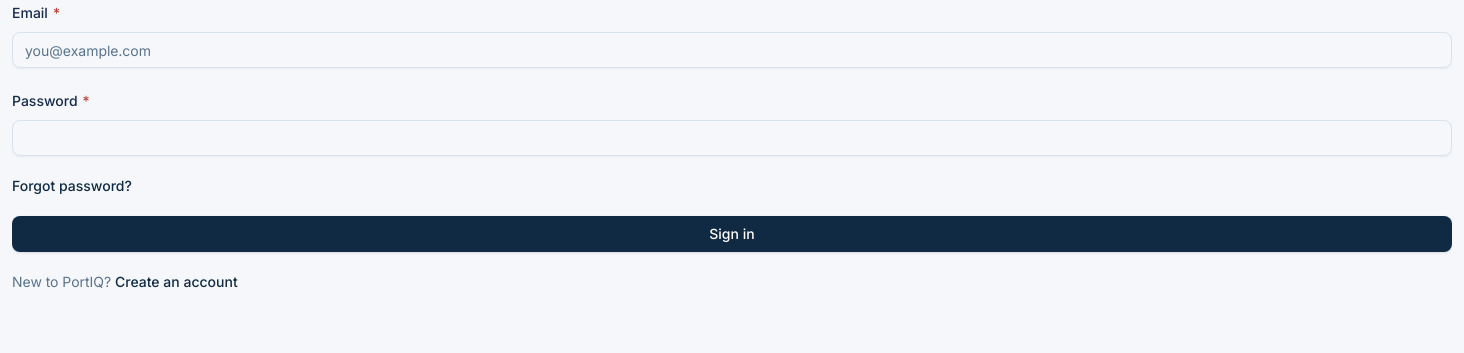
Scenario: auth forms › shows login validation errors and keeps the entered email
The width and height of the screenshot is (1464, 353).
Type "not-an-email" into the field labelled "Email*".
click(732, 50); type("not-an-email")  # box top-left (12, 32), bottom-right (1452, 68)
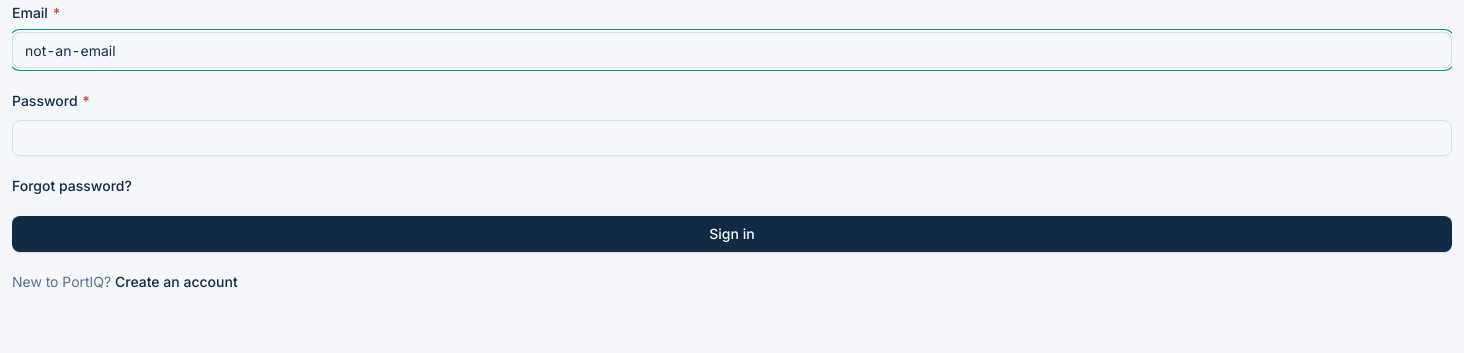
Click the button "Sign in".
click(732, 234)  # box top-left (12, 216), bottom-right (1452, 252)
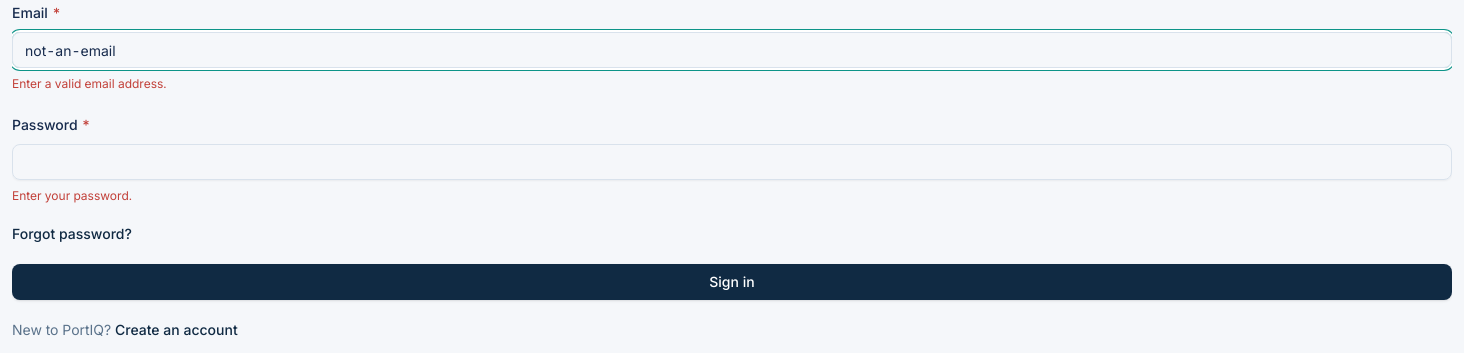
Result: the text "Enter a valid email address." is shown at top-left (12, 76), bottom-right (166, 91)
Result: the text "Enter your password." is shown at top-left (12, 188), bottom-right (132, 203)
